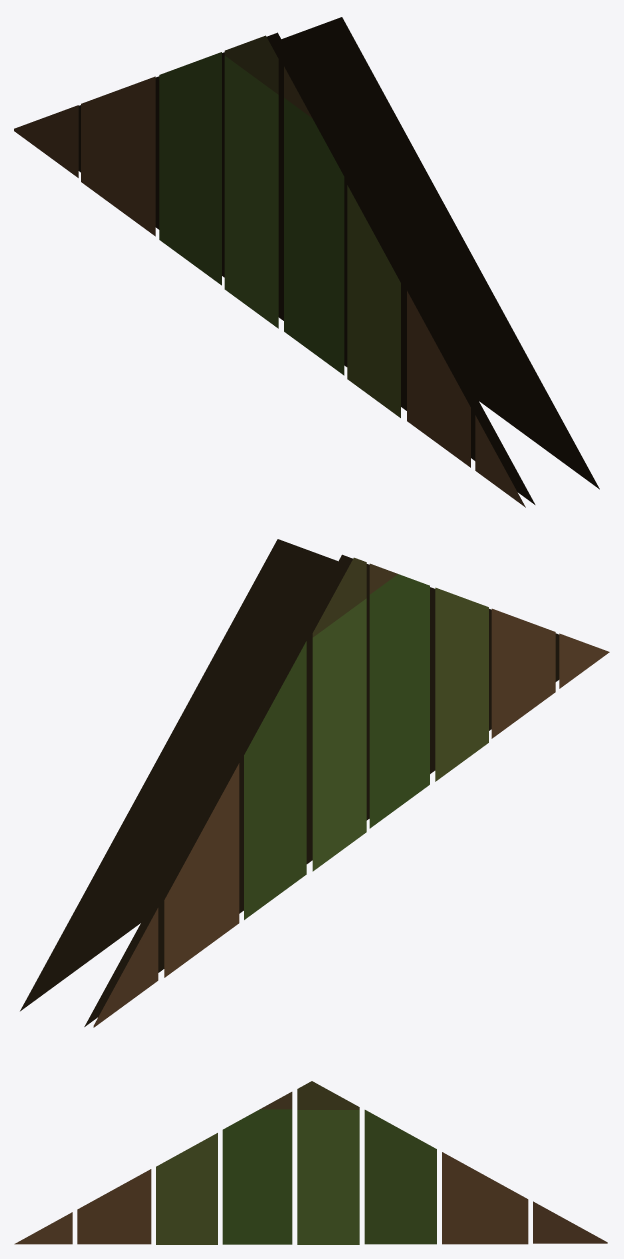
File: wall-mossy-gable-peak.glb
3 views of the same model, one above another, from view 1: azimuth 30°, elevation 25°; view 2: azimuth 150°, elevation 25°; view 3: azimuth 270°, elevation 25° (orthographic). The views are drawn at different scales.
Visible parts, largest first — view 1: wall-mossy-gable-peak; view 2: wall-mossy-gable-peak; view 3: wall-mossy-gable-peak.
Part boxes in pixels (box(x1,y1,x2,y2)): wall-mossy-gable-peak: box(14, 17, 599, 507); wall-mossy-gable-peak: box(20, 539, 609, 1027); wall-mossy-gable-peak: box(14, 1081, 607, 1244).
Bounding box in the file's own units: 0.0985 × 0.3035 × 1.
